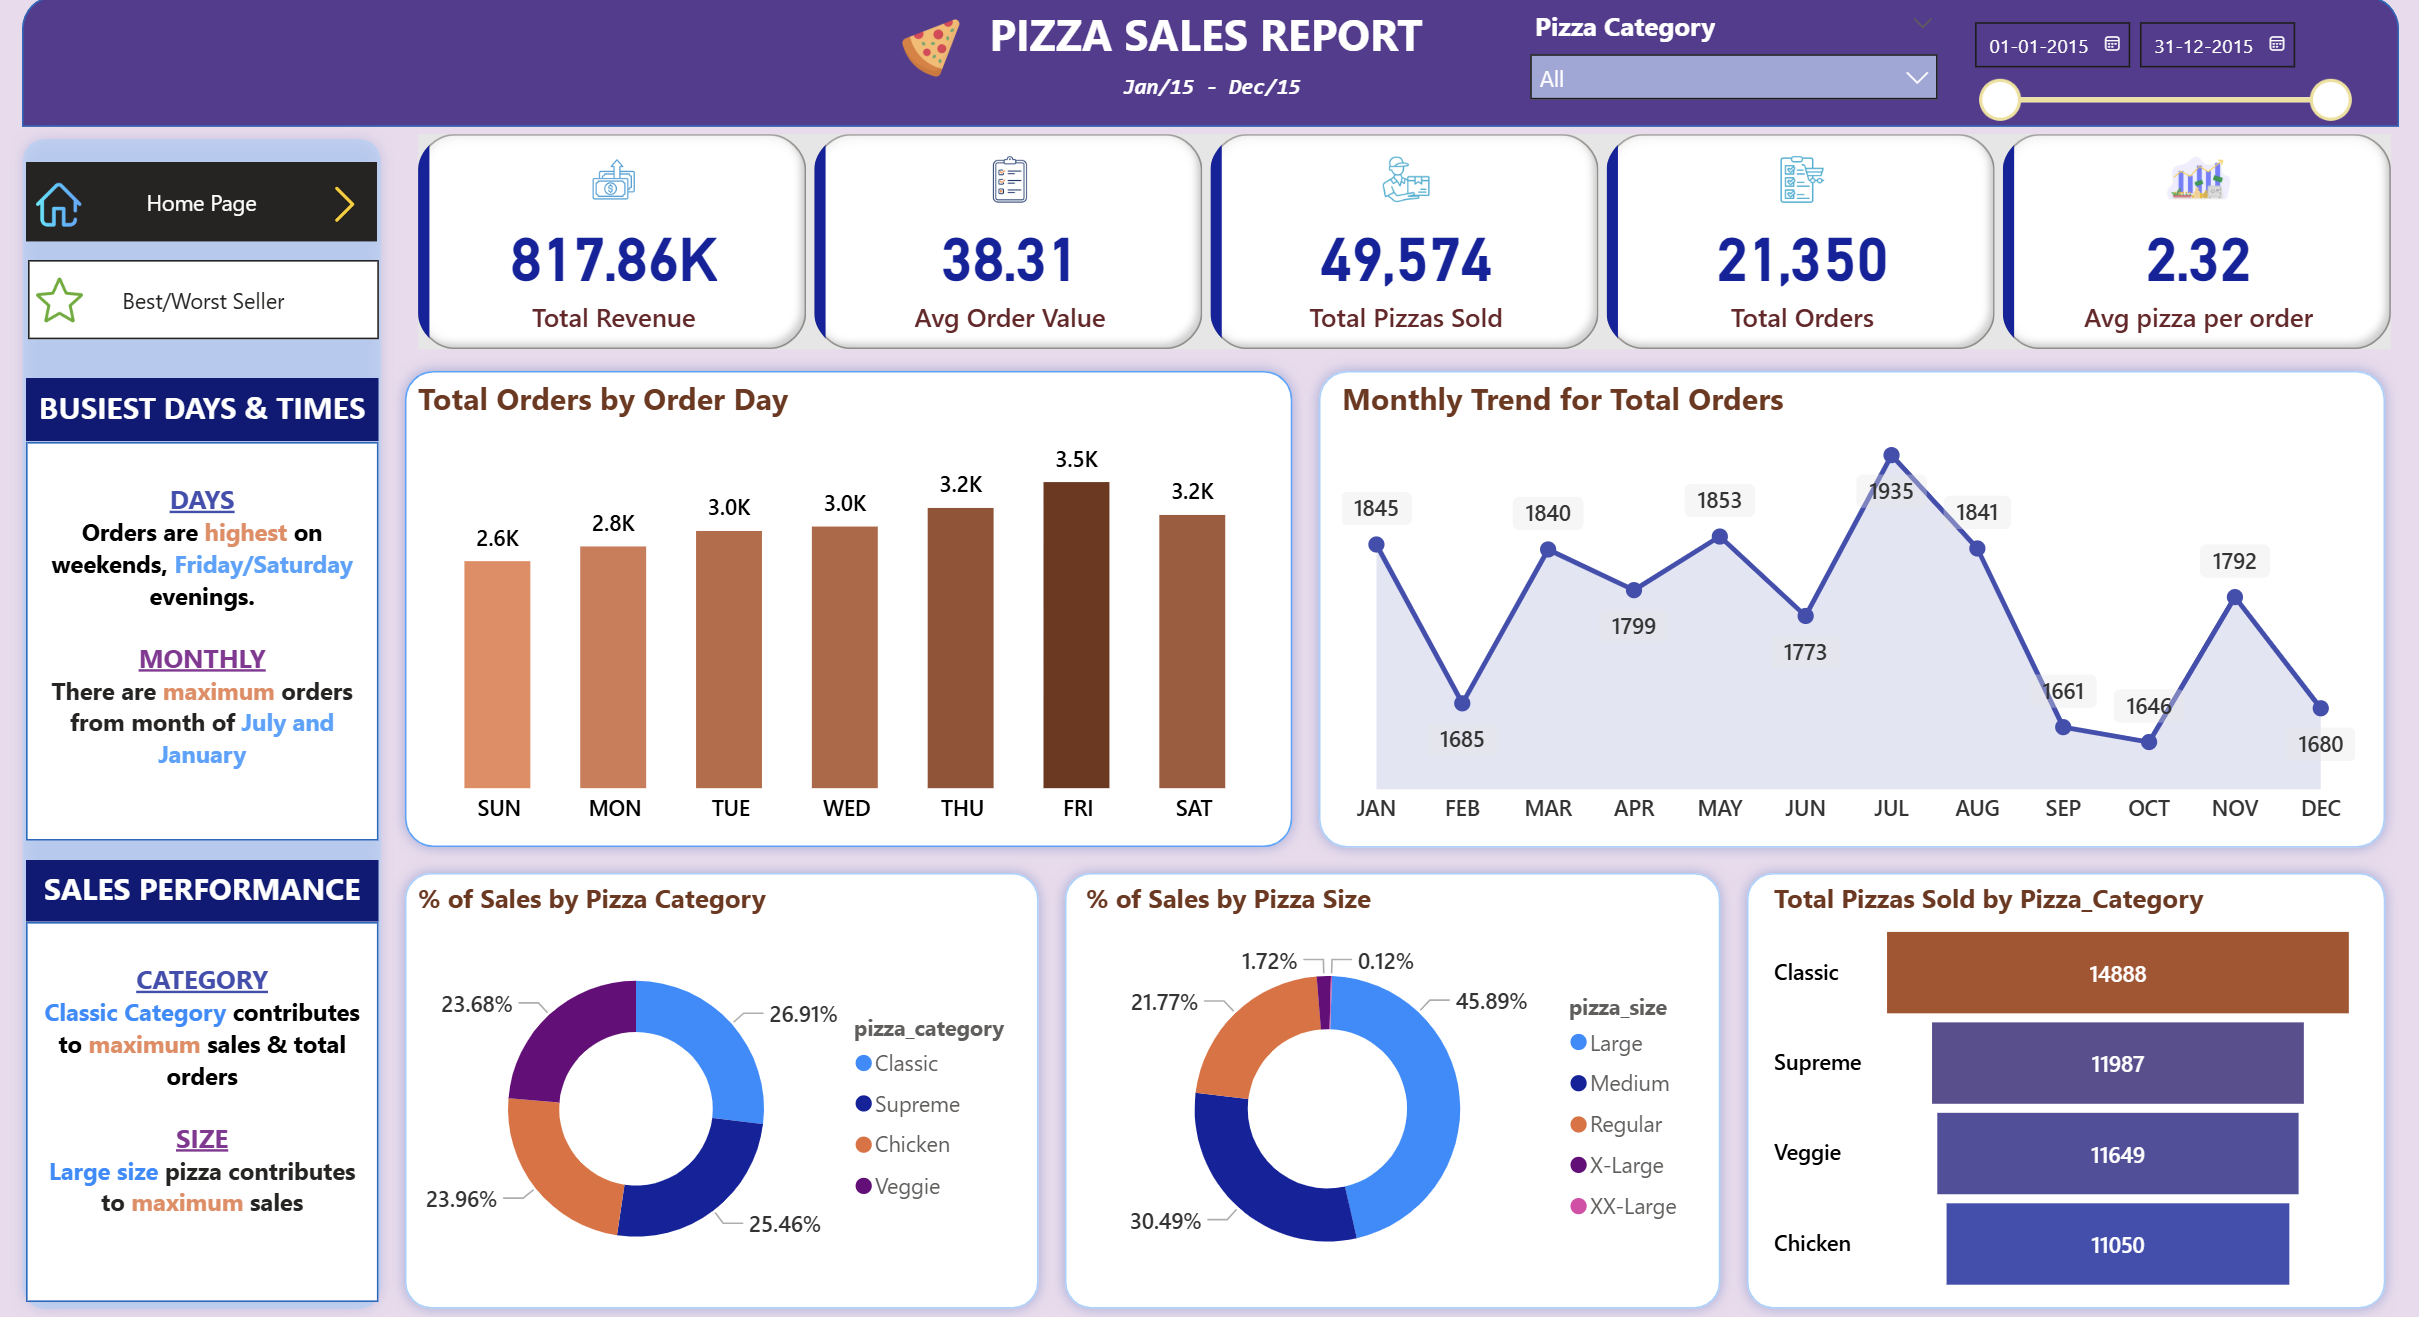

What the dashboard file says about the page in this screenshot:
{"tool":"powerbi","page":{"name":"Home Page","canvas":[1500,820],"ordinal":0},"visuals":[{"type":"cardVisual","fields":{"Data":["pizza_sales.Total Revenue","pizza_sales.Avg Order Value","pizza_sales.Total Pizzas Sold","pizza_sales.Total Orders","pizza_sales.Avg pizza per order"]},"box":[257,80.9,1230,143.5],"z":0},{"type":"shape","box":[17,0,1470,80.9],"z":1000},{"type":"textbox","box":[606.5,0,287,49.6],"z":2000},{"type":"textbox","box":[686.1,40.4,133,31.3],"z":3000},{"type":"image","box":[550.4,8.7,58.1,47],"z":4000},{"type":"shape","box":[246.5,224.3,564.8,310.4],"z":5000},{"type":"columnChart","fields":{"Category":["pizza_sales.Order Day"],"Y":["pizza_sales.Total Orders"]},"box":[257,236.1,540,285.7],"z":6000},{"type":"shape","box":[811.3,224.1,675.3,310.8],"z":7000},{"type":"areaChart","title":"Monthly Trend for Total Orders","fields":{"Category":["pizza_sales.Order Month"],"Y":["pizza_sales.Total Orders"]},"box":[829.2,236.1,636.5,285.4],"z":8000},{"type":"shape","box":[246.5,534.9,407.9,285.4],"z":9000},{"type":"shape","box":[654.4,534.9,421.3,285.4],"z":10000},{"type":"shape","box":[1075.7,534.9,410.9,285.4],"z":11000},{"type":"donutChart","title":"% of Sales by Pizza Category","fields":{"Category":["pizza_sales.pizza_category"],"Y":["pizza_sales.Total Revenue"]},"box":[257,546.8,388.4,261.5],"z":12000},{"type":"donutChart","title":"% of Sales by Pizza Size","fields":{"Category":["pizza_sales.pizza_size"],"Y":["pizza_sales.Total Revenue"]},"box":[670.8,546.8,388.4,261.5],"z":13000},{"type":"funnel","title":"Total Pizzas Sold by Pizza_Category","fields":{"Category":["pizza_sales.pizza_category"],"Y":["pizza_sales.Total Pizzas Sold"]},"box":[1095.7,546.5,370.4,260.9],"z":14000},{"type":"shape","box":[10.4,80.9,237.4,739.6],"z":15000},{"type":"textbox","box":[19.4,236.1,218.1,38.8],"z":16000},{"type":"textbox","box":[19.6,275.2,217.8,246.5],"z":17000},{"type":"textbox","box":[19.6,534.8,217.8,37.8],"z":18000},{"type":"textbox","box":[19.6,572.6,217.8,234.8],"z":19000},{"type":"slicer","fields":{"Values":["pizza_sales.pizza_category"]},"box":[939.7,3,271.9,74.7],"z":20000},{"type":"slicer","fields":{"Values":["pizza_sales.order_date"]},"box":[1211.7,6,254,74.7],"z":21000},{"type":"pageNavigator","box":[19.6,103,217.8,49.6],"z":22000},{"type":"pageNavigator","box":[20.9,163,217.8,49.6],"z":23000},{"type":"image","box":[197,112.2,40.4,32.6],"z":24000},{"type":"image","box":[20.9,109.6,37.8,37.8],"z":25000},{"type":"image","box":[20.9,167,39.1,41.7],"z":26000}]}

Visuals, with their boxes in screenshot pixels (x1, y1, x2, y2), scaled from the page's 1500x820 canvas onto the 2419x1317 screenshot:
cardVisual - pizza_sales.Total Revenue x pizza_sales.Avg Order Value: [x1=414, y1=130, x2=2398, y2=360]
shape: [x1=27, y1=0, x2=2398, y2=130]
textbox: [x1=978, y1=0, x2=1441, y2=80]
textbox: [x1=1106, y1=65, x2=1321, y2=115]
image: [x1=888, y1=14, x2=981, y2=89]
shape: [x1=398, y1=360, x2=1308, y2=859]
columnChart - pizza_sales.Order Day x pizza_sales.Total Orders: [x1=414, y1=379, x2=1285, y2=838]
shape: [x1=1308, y1=360, x2=2397, y2=859]
"Monthly Trend for Total Orders" areaChart: [x1=1337, y1=379, x2=2364, y2=838]
shape: [x1=398, y1=859, x2=1055, y2=1316]
shape: [x1=1055, y1=859, x2=1735, y2=1316]
shape: [x1=1735, y1=859, x2=2397, y2=1316]
"% of Sales by Pizza Category" donutChart: [x1=414, y1=878, x2=1041, y2=1298]
"% of Sales by Pizza Size" donutChart: [x1=1082, y1=878, x2=1708, y2=1298]
"Total Pizzas Sold by Pizza_Category" funnel: [x1=1767, y1=878, x2=2364, y2=1297]
shape: [x1=17, y1=130, x2=400, y2=1316]
textbox: [x1=31, y1=379, x2=383, y2=442]
textbox: [x1=32, y1=442, x2=383, y2=838]
textbox: [x1=32, y1=859, x2=383, y2=920]
textbox: [x1=32, y1=920, x2=383, y2=1297]
slicer - pizza_sales.pizza_category: [x1=1515, y1=5, x2=1954, y2=125]
slicer - pizza_sales.order_date: [x1=1954, y1=10, x2=2364, y2=130]
pageNavigator: [x1=32, y1=165, x2=383, y2=245]
pageNavigator: [x1=34, y1=262, x2=385, y2=341]
image: [x1=318, y1=180, x2=383, y2=233]
image: [x1=34, y1=176, x2=95, y2=237]
image: [x1=34, y1=268, x2=97, y2=335]
